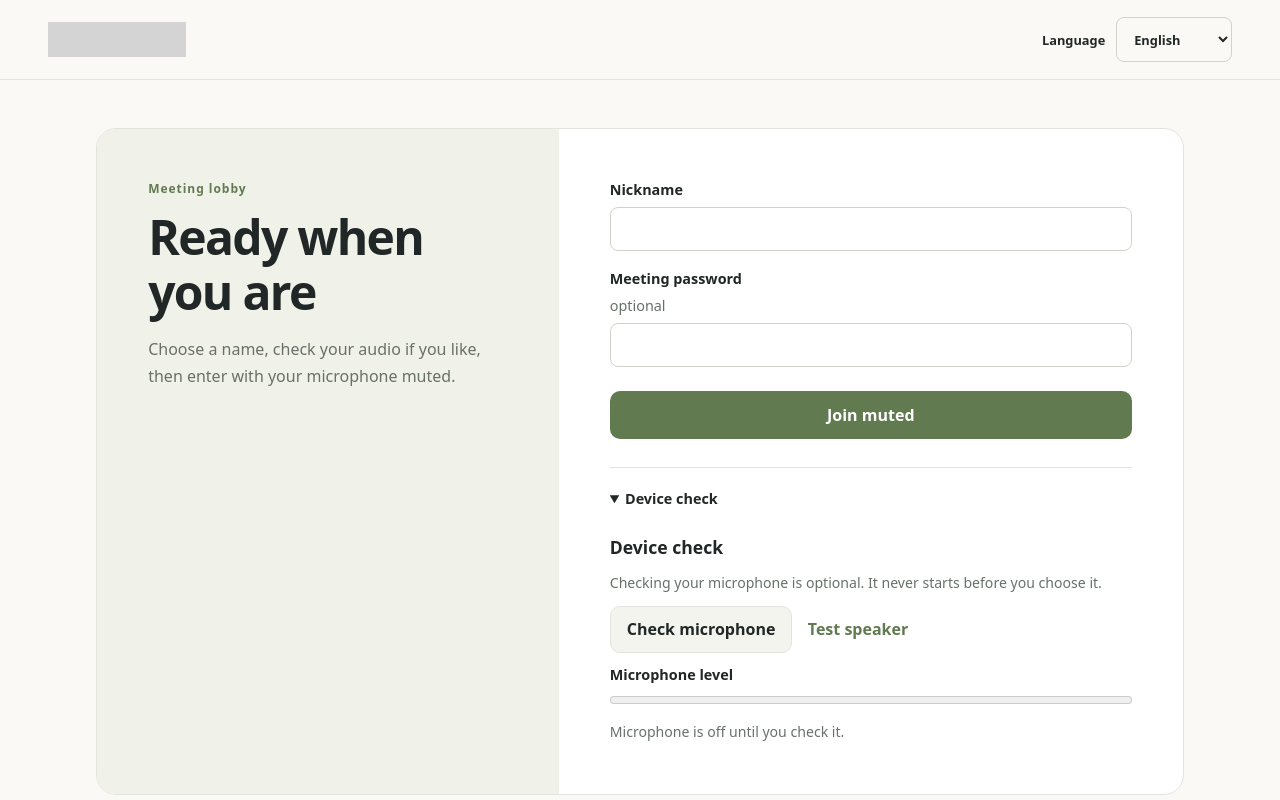
it: join lobby › reports denied microphone permission
This screenshot has width=1280, height=800.
Check: the field labelled "Nickname" is shown, box [610,207,1132,251]
Click the button "Check microphone" at (701, 629), box [610,606,792,653]
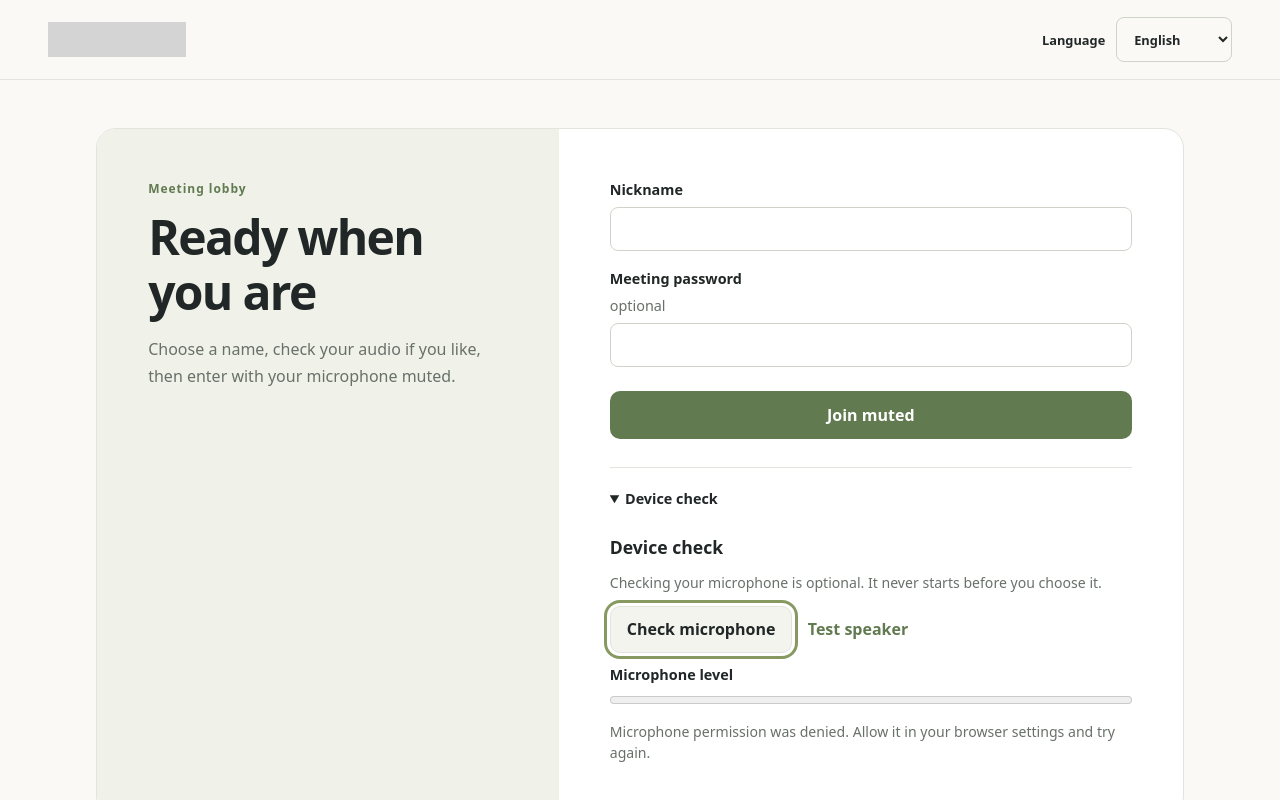
Check: the message shows "Microphone permission was denied", box [610,722,1115,762]
